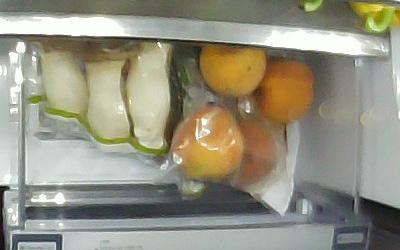peach: (254, 57, 316, 123), (197, 42, 266, 98)
peach_vinyl: (171, 107, 243, 181), (222, 118, 280, 187)
